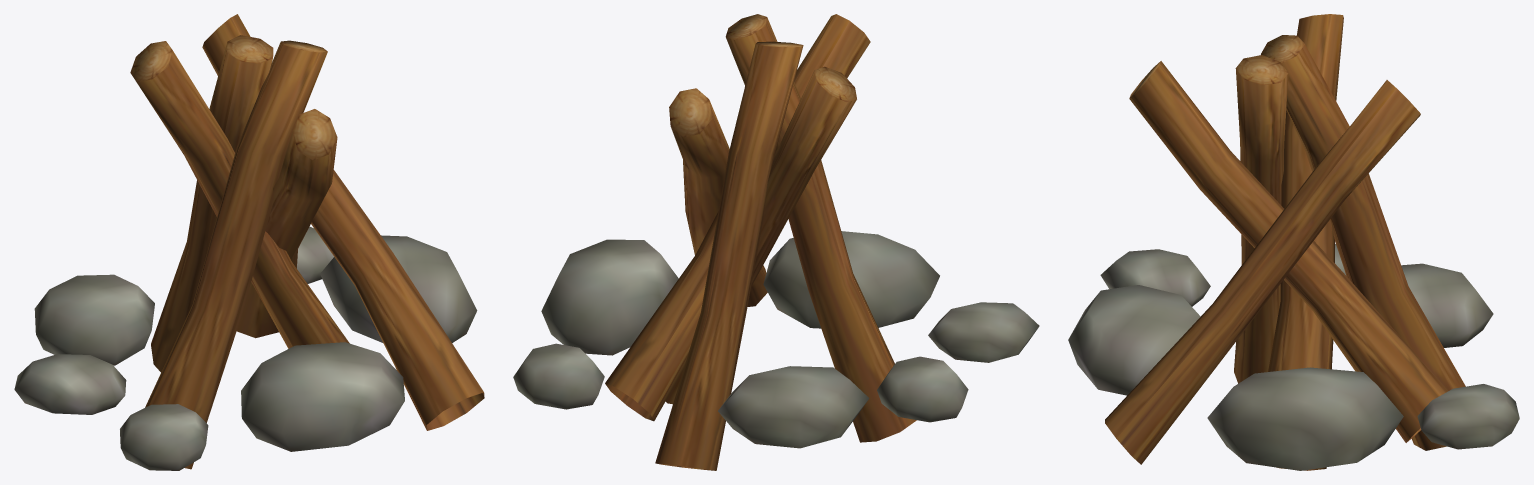
Rendered from CampFire01.obj.
3 renders of one model, left to right at view 1: azimuth 30°, elevation 25°; view 2: azimuth 150°, elevation 25°; view 3: azimuth 270°, elevation 25°, orthographic. The views are drawn at different scales.
Parts seen in each view (by area): view 1: CampFire01; view 2: CampFire01; view 3: CampFire01.
Boxes of the visible parts, <box> form: CampFire01: <box>14,14,484,470</box>; CampFire01: <box>513,14,1039,470</box>; CampFire01: <box>1068,14,1519,470</box>.
Size of the model in its own units: 4.91 by 4.33 by 4.47.
1 material, 1 textured.
